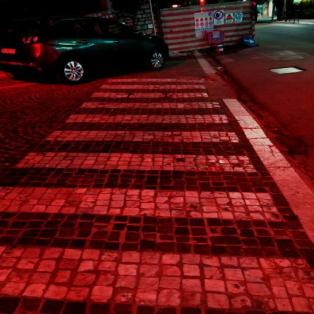Paso de Cebra: (12, 129, 262, 174), (78, 91, 226, 112)
